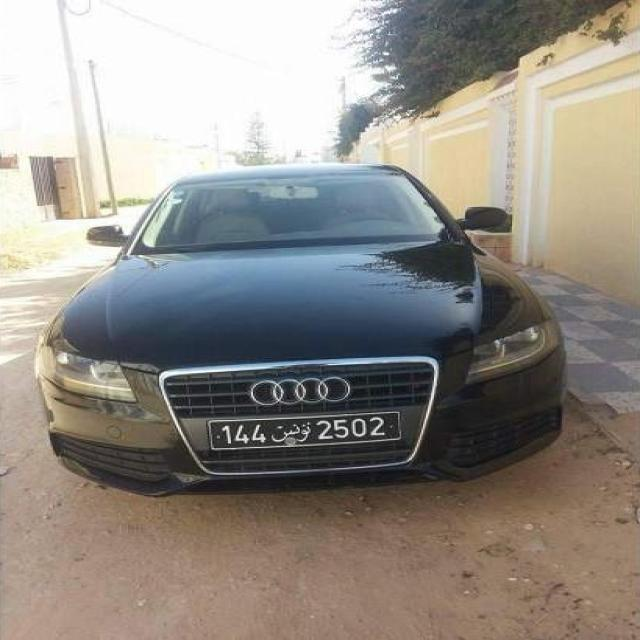licence plate: (210, 412, 403, 449)
